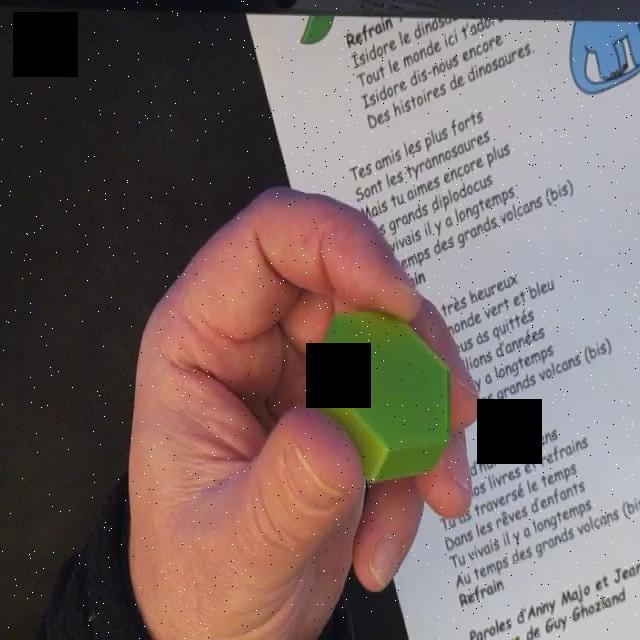hexagon: (316, 310, 450, 482)
